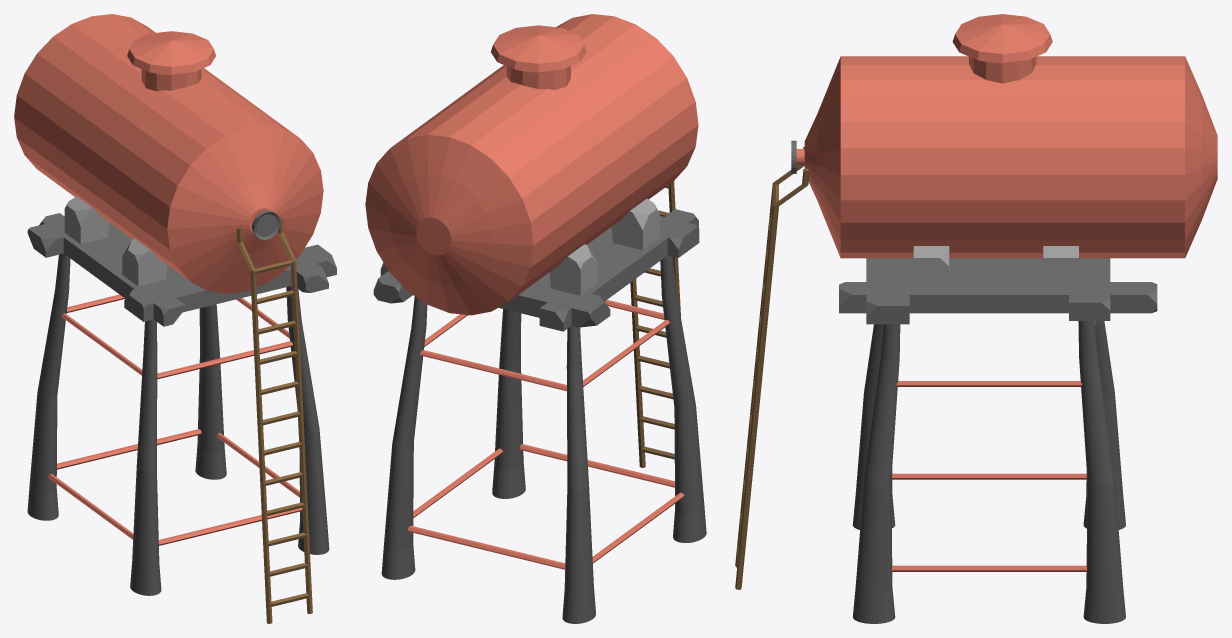
Rendered from watertank.fbx.
3 views of the same model, side by side, from view 1: azimuth 30°, elevation 25°; view 2: azimuth 150°, elevation 25°; view 3: azimuth 270°, elevation 25° (orthographic). The views are drawn at different scales.
Visible parts, largest first — view 1: watertank; view 2: watertank; view 3: watertank.
Part boxes in pixels (<box>): watertank: <box>14,14,336,623</box>; watertank: <box>365,14,706,623</box>; watertank: <box>735,14,1217,623</box>.
Bounding box in the file's own units: 404 × 945 × 748.
